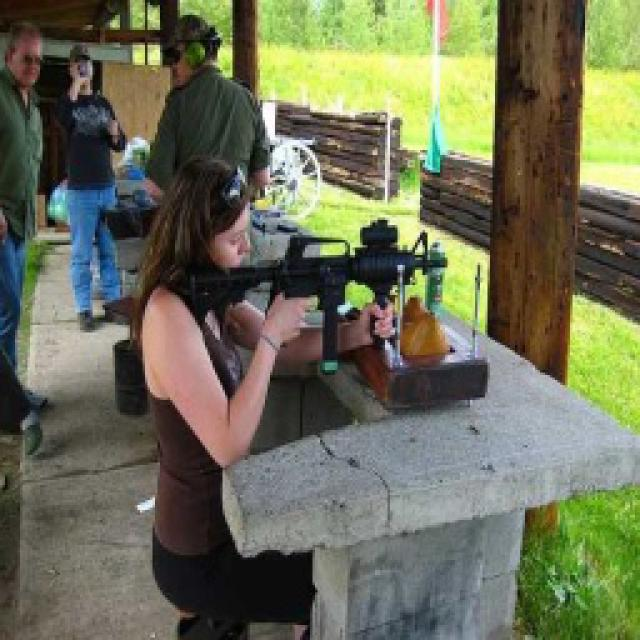long weapon: (173, 195, 450, 338)
